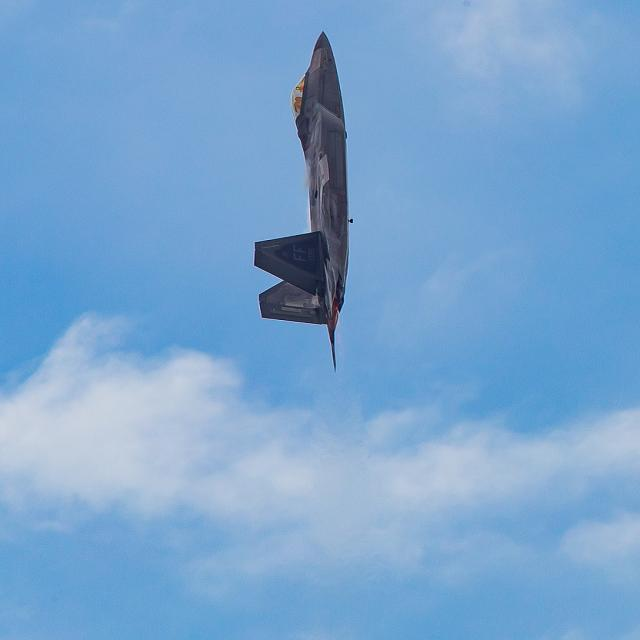MIL_Plane: (253, 29, 355, 374)
